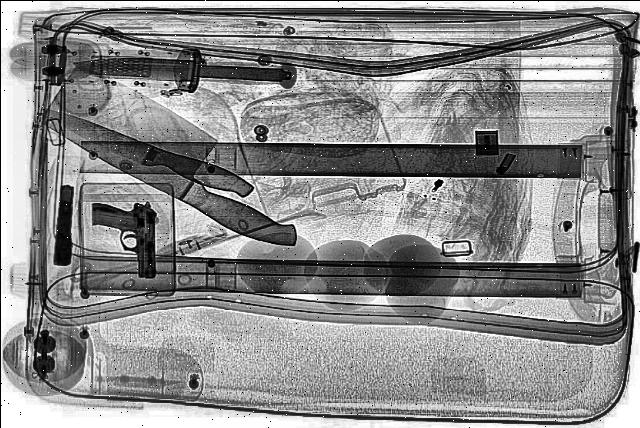Gun: (90, 204, 160, 278), (50, 184, 80, 266)
Knife: (10, 62, 352, 256), (28, 103, 262, 201), (72, 54, 288, 87)
